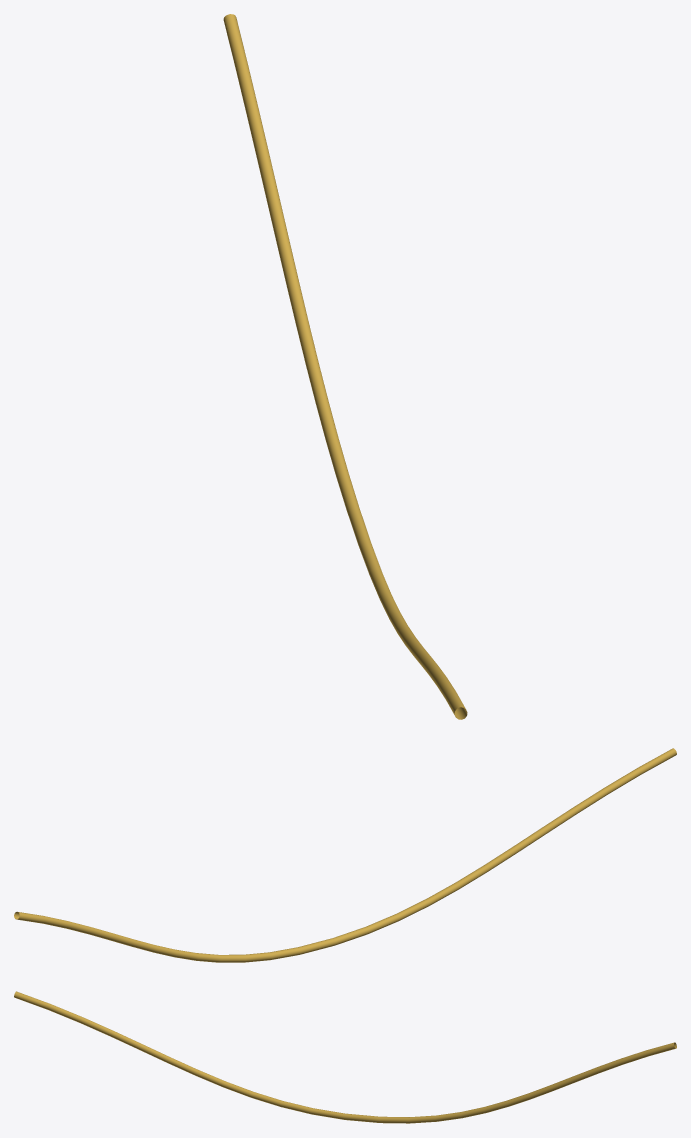
3 views of the same model, one above another, from view 1: azimuth 30°, elevation 25°; view 2: azimuth 150°, elevation 25°; view 3: azimuth 270°, elevation 25° (orthographic). The views are drawn at different scales.
Visible parts, largest first — view 1: 右侧隐神经小腿内侧皮支; view 2: 右侧隐神经小腿内侧皮支; view 3: 右侧隐神经小腿内侧皮支.
Part boxes in pixels (box(x1,y1,x2,y2)): 右侧隐神经小腿内侧皮支: box(223, 14, 467, 719); 右侧隐神经小腿内侧皮支: box(14, 748, 676, 962); 右侧隐神经小腿内侧皮支: box(14, 991, 676, 1123).
Bounding box in the file's own units: 0.0569 × 0.0308 × 0.1485.
